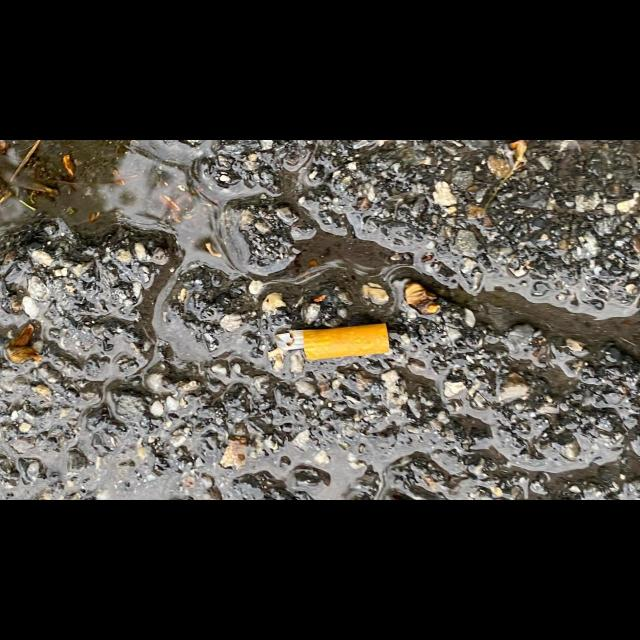cigarette: (298, 324, 390, 358)
